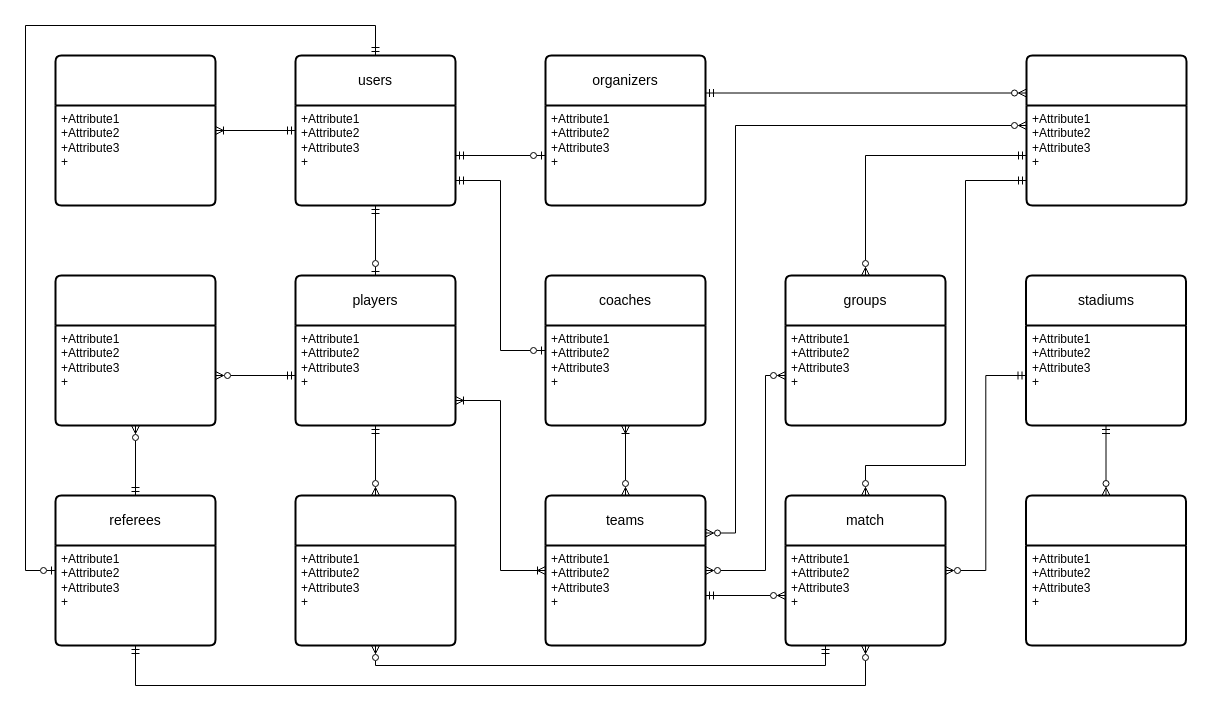
The diagram is 1205 pixels wide and 712 high, and some of its shapes have lost their labels. The shapes that lost their labels are listed below. From the top down, each one's box as (x1, y1, x2, y2) in pixels, then its label:
(54, 54, 216, 206): authorities
(1025, 54, 1187, 206): tournaments
(54, 274, 216, 426): disqualifications
(294, 494, 456, 646): match_events
(1024, 494, 1186, 646): stadium_slots
